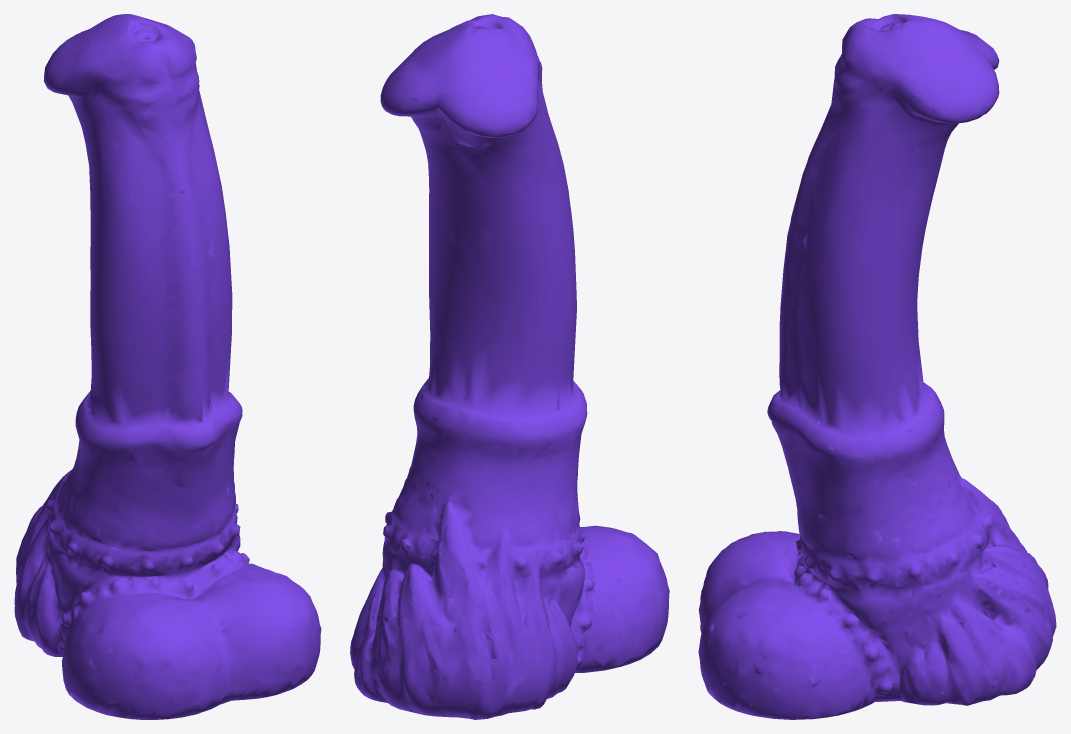
Rendered from medium-flat-ar.glb.
3 renders of one model, left to right at view 1: azimuth 30°, elevation 25°; view 2: azimuth 150°, elevation 25°; view 3: azimuth 270°, elevation 25°, orthographic. The views are drawn at different scales.
Bounding box in the file's own units: 0.1117 × 0.2801 × 0.1411.
